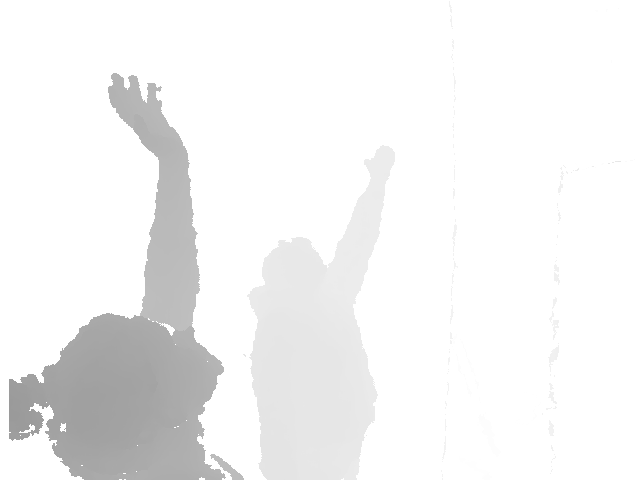hand: (107, 72, 189, 169), (363, 144, 396, 185)
head: (43, 311, 219, 466), (265, 236, 329, 302)
person: (10, 71, 244, 480), (245, 144, 397, 480)
